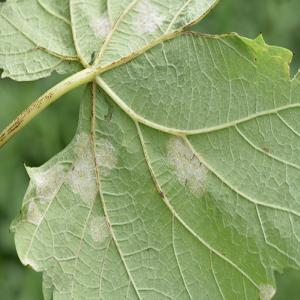Folha: (0, 0, 300, 300)
Fungo: (68, 135, 118, 208), (88, 2, 166, 40), (166, 134, 209, 200), (25, 161, 66, 211), (129, 2, 166, 36), (95, 137, 117, 178), (88, 12, 111, 40), (89, 214, 110, 243), (26, 198, 41, 226), (258, 280, 276, 300), (262, 145, 269, 153)
